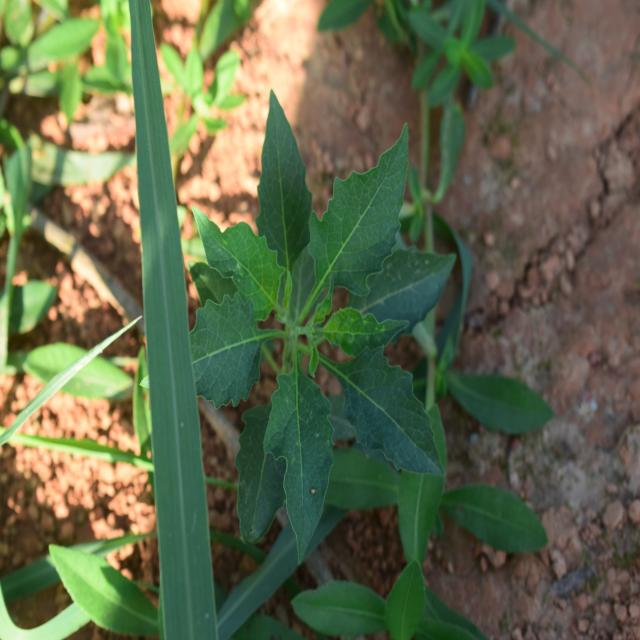Black_nightshade: (200, 123, 452, 538)
